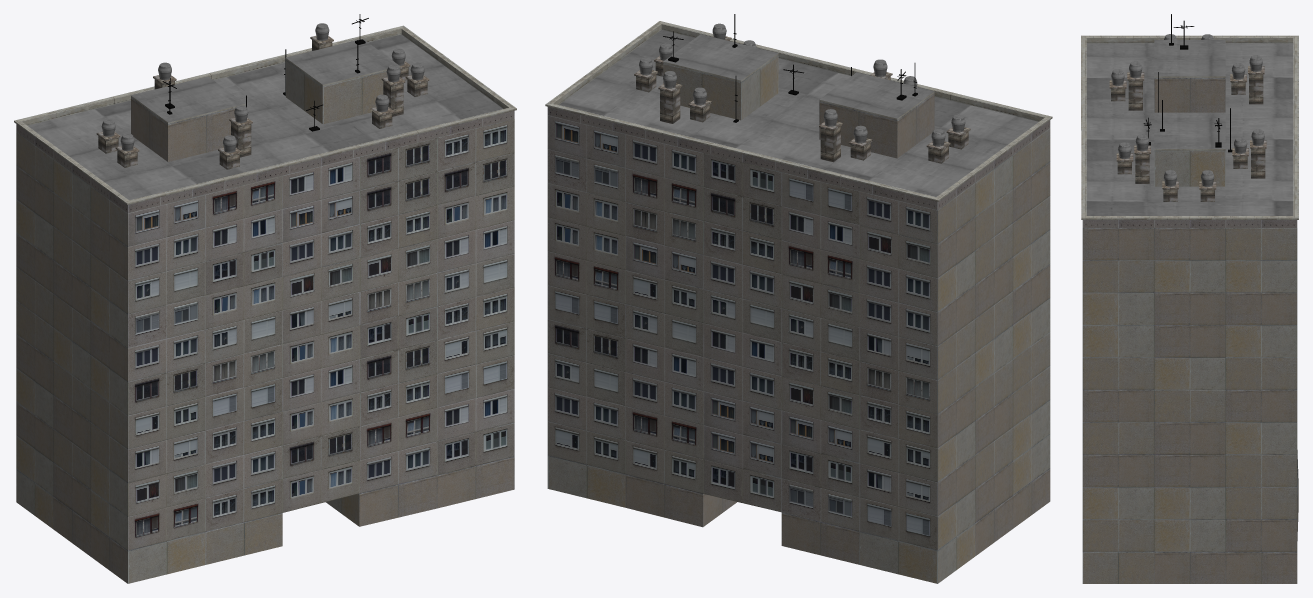
The picture shows the model from 3 angles, left to right: view 1: azimuth 30°, elevation 25°; view 2: azimuth 150°, elevation 25°; view 3: azimuth 270°, elevation 25°; orthographic projection. The views are drawn at different scales.
Visible parts, largest first — view 1: Panel.001; view 2: Panel.001; view 3: Panel.001.
Boxes of the visible parts, <box> form: Panel.001: <box>14,14,516,583</box>; Panel.001: <box>545,14,1052,583</box>; Panel.001: <box>1081,14,1298,583</box>.
Size of the model in its own units: 264 by 290 by 133.
30 materials, 28 textured.
